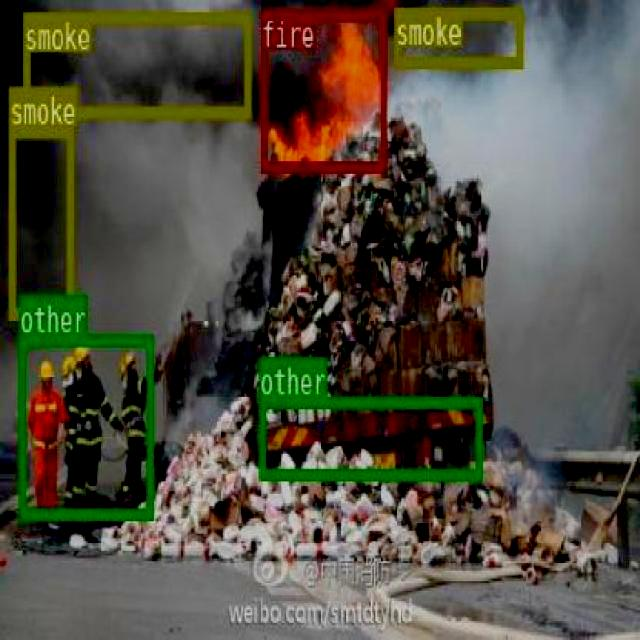fire: (260, 9, 386, 171)
smoke: (22, 10, 250, 115), (8, 126, 72, 316), (394, 6, 522, 65)
